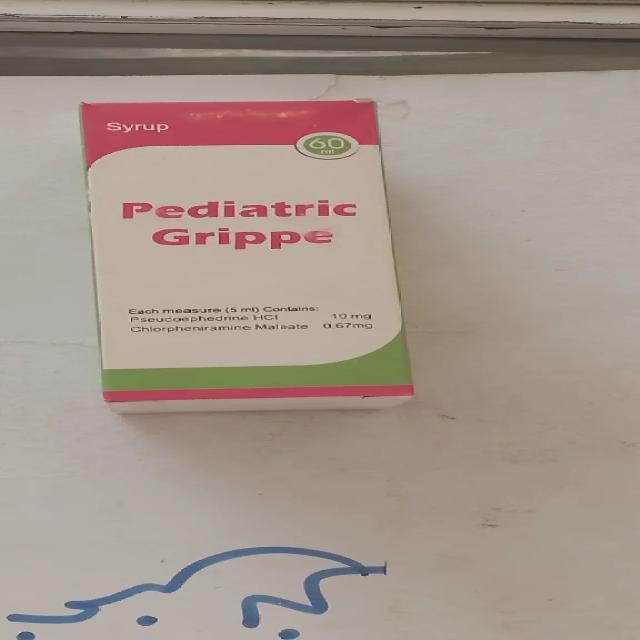drug-name: (119, 196, 361, 252)
